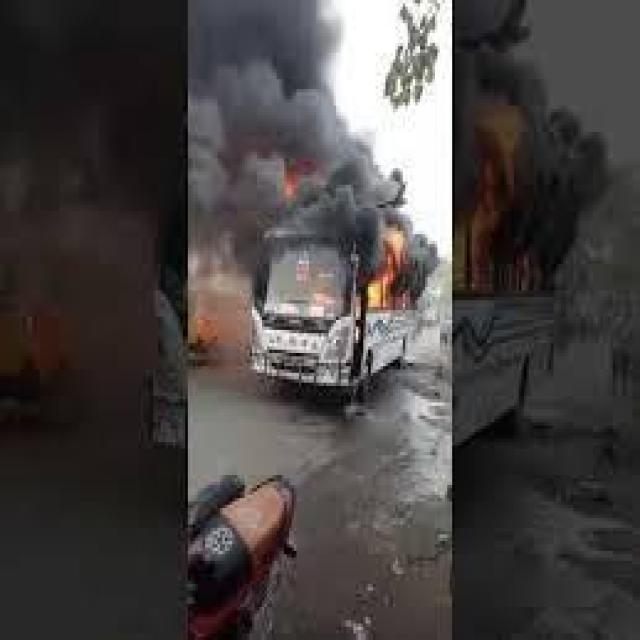smoke: (163, 0, 383, 257), (454, 59, 602, 303), (387, 167, 440, 306)
